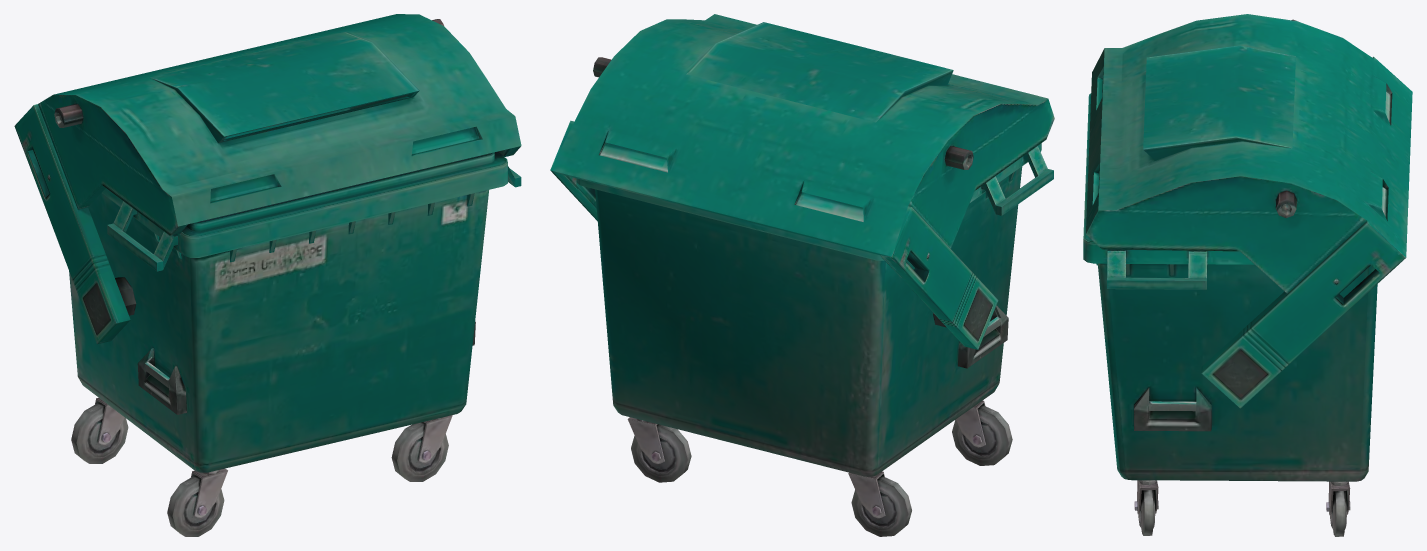
Rendered from dumpster.glb.
3 views of the same model, side by side, from view 1: azimuth 30°, elevation 25°; view 2: azimuth 150°, elevation 25°; view 3: azimuth 270°, elevation 25° (orthographic). The views are drawn at different scales.
Visible parts, largest first — view 1: Cube.144_0; view 2: Cube.144_0; view 3: Cube.144_0.
Boxes of the visible parts, x1=… form: Cube.144_0: x1=14, y1=14, x2=521, y2=536; Cube.144_0: x1=550, y1=14, x2=1054, y2=536; Cube.144_0: x1=1083, y1=14, x2=1412, y2=536.
Size of the model in its own units: 1.37 by 1.4 by 1.06.
1 material, 1 textured.
